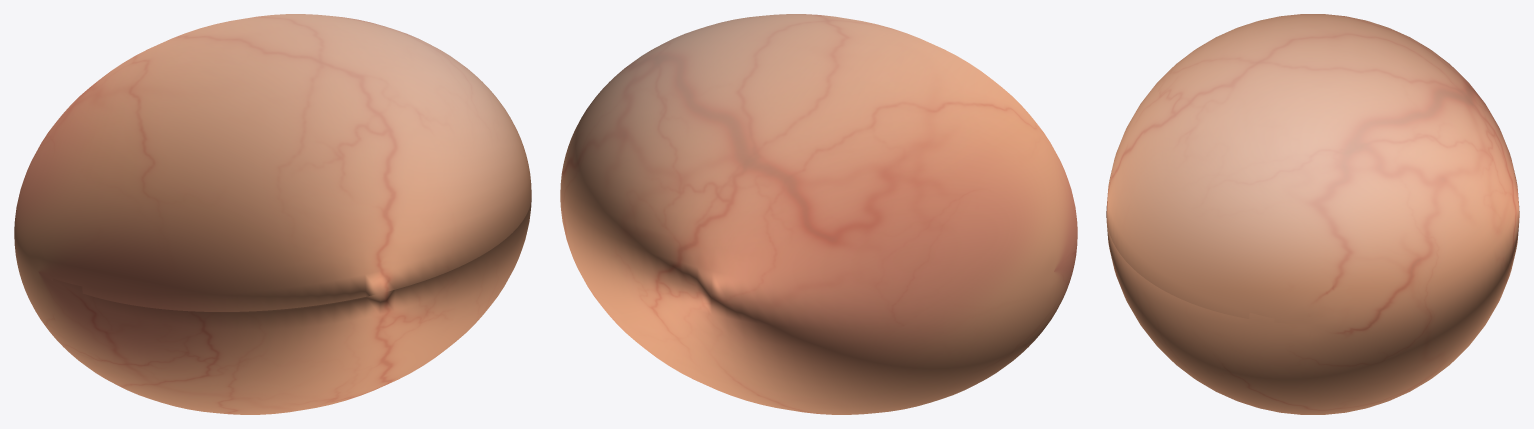
The picture shows the model from 3 angles, left to right: view 1: azimuth 30°, elevation 25°; view 2: azimuth 150°, elevation 25°; view 3: azimuth 270°, elevation 25°; orthographic projection. The views are drawn at different scales.
Parts seen in each view (by area): view 1: default; view 2: default; view 3: default.
Boxes of the visible parts, bbox=[...] form: default: bbox=[14, 14, 531, 414]; default: bbox=[560, 14, 1077, 414]; default: bbox=[1106, 14, 1519, 414].
Size of the model in its own units: 8.67 by 6.17 by 6.89.
Materials: 7 (7 with a texture image).
